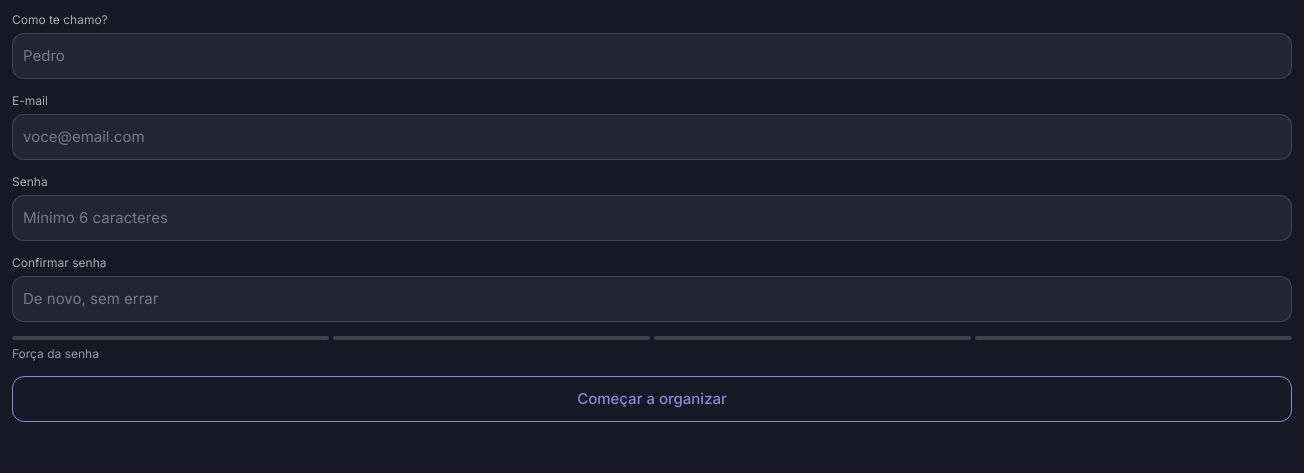
Test case: RegisterForm › mostra um erro por vez, na ordem dos campos
Type "pedro" into the field labelled "E-mail" at [652, 137], box x1=12 y1=114 x2=1292 y2=160
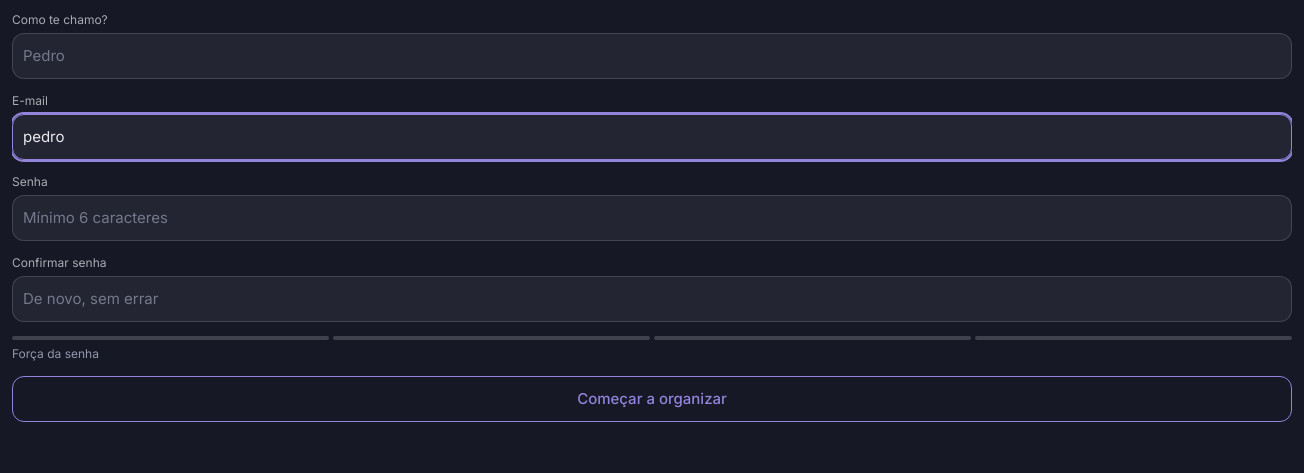
Type "123" into the password field labelled "Senha" at [652, 218], box x1=12 y1=195 x2=1292 y2=241
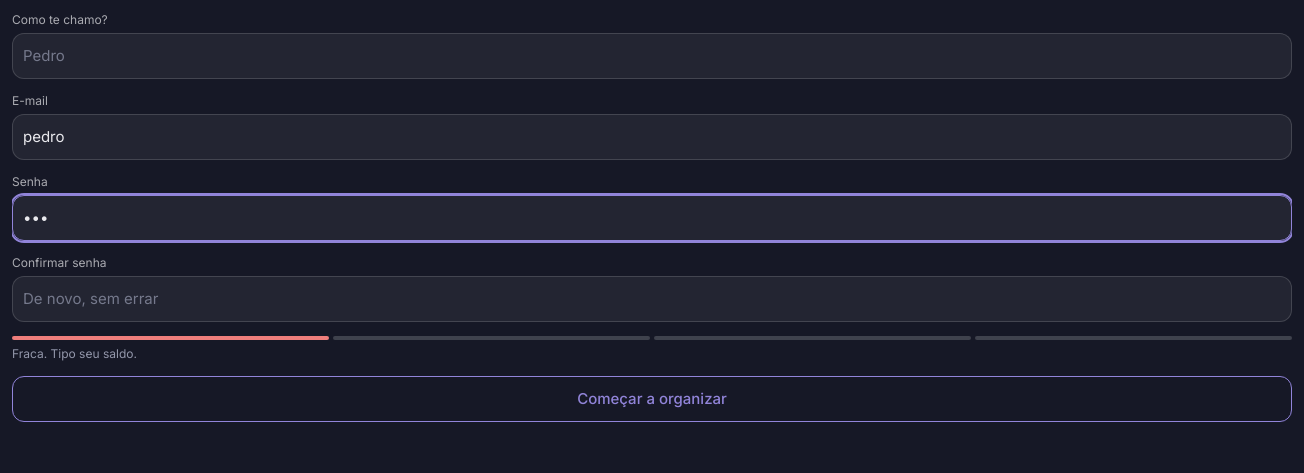
Type "321" into the password field labelled "Confirmar senha" at [652, 299], box x1=12 y1=276 x2=1292 y2=322
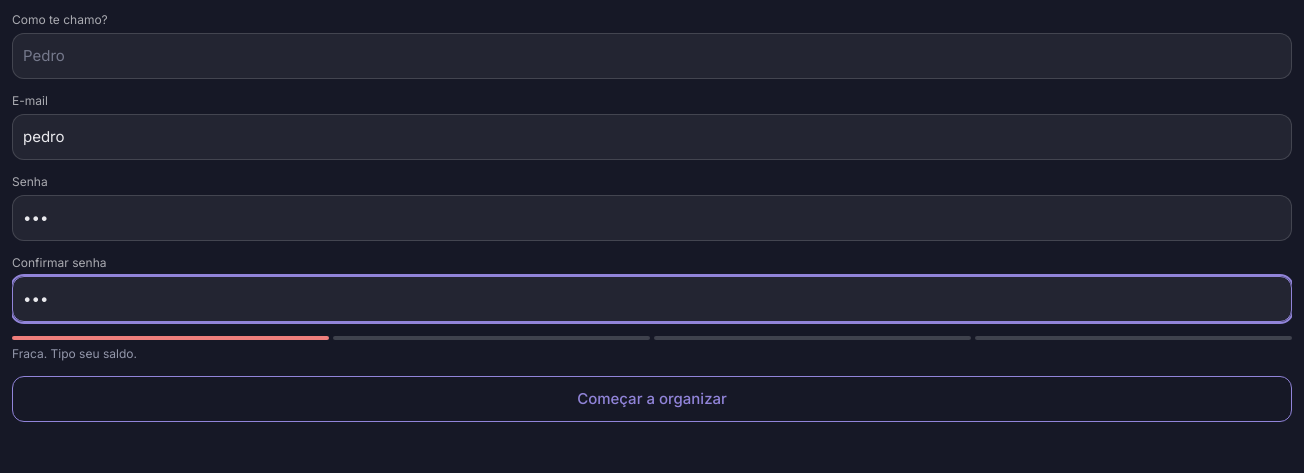
Click the button "Começar a organizar" at [652, 399], box x1=12 y1=376 x2=1292 y2=422
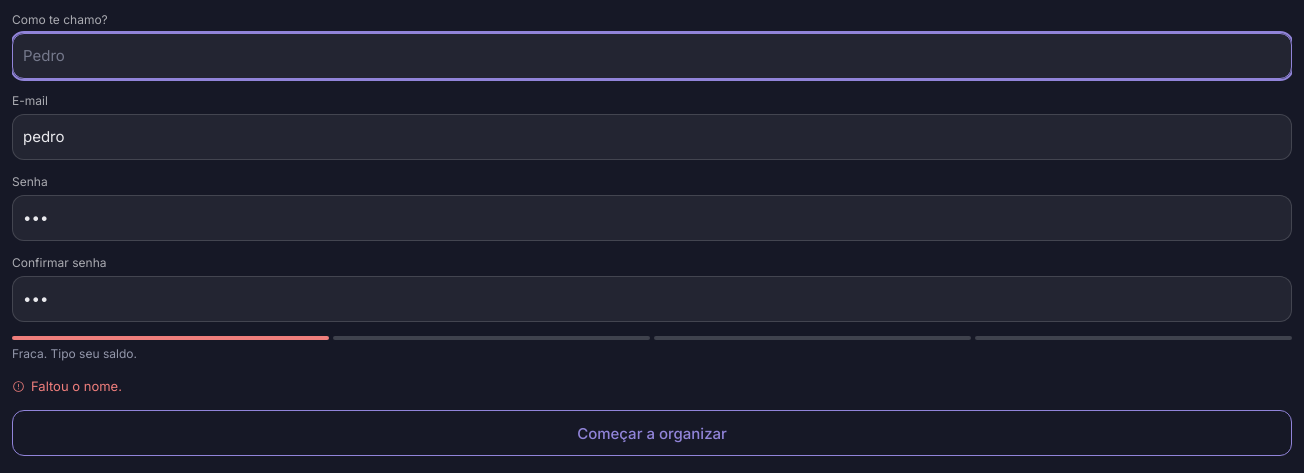
Expected: the message reads "Faltou o nome.", x1=31 y1=378 x2=122 y2=394
